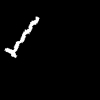half_double_crochet: (5, 17, 38, 57)
